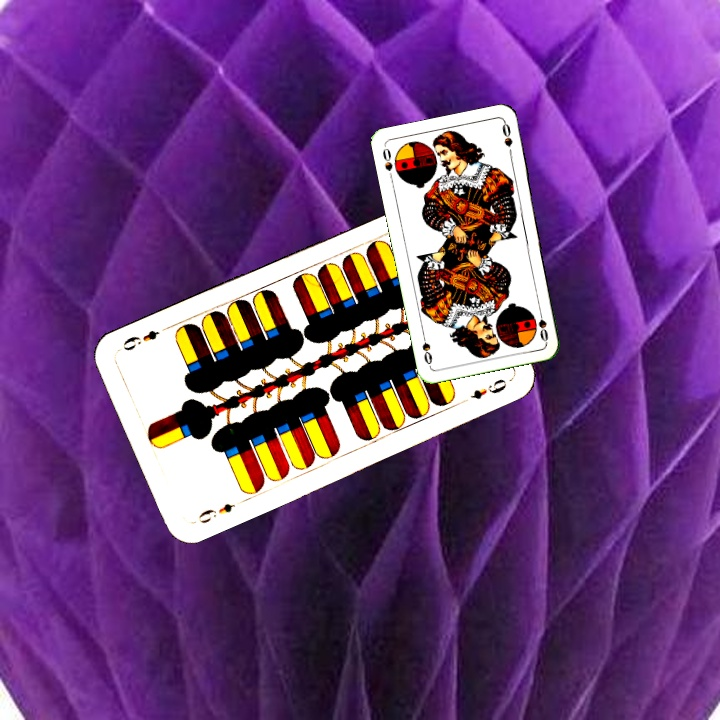E9: (191, 499, 238, 526)
SO: (534, 304, 551, 344), (379, 143, 395, 183)
